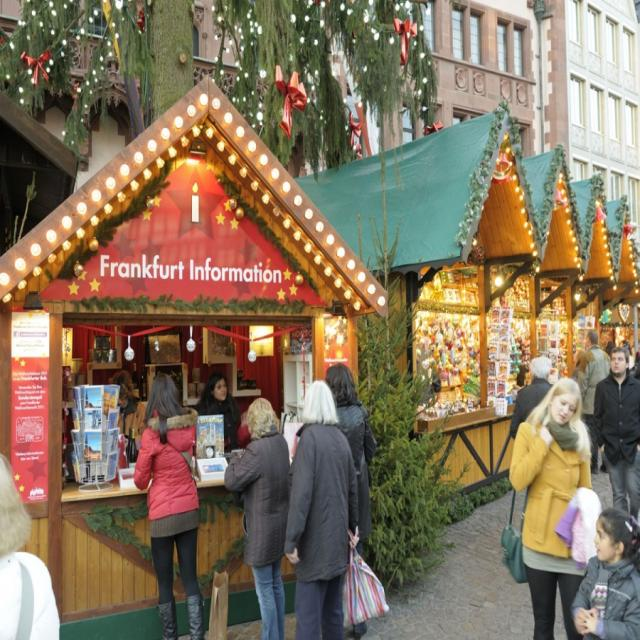body: (495, 374, 599, 639), (130, 371, 208, 639), (282, 378, 361, 640), (222, 395, 292, 640), (325, 361, 378, 640), (530, 338, 640, 462), (569, 505, 640, 639), (592, 345, 639, 524), (577, 330, 611, 475), (190, 371, 242, 453), (508, 354, 554, 442), (107, 368, 148, 453)
